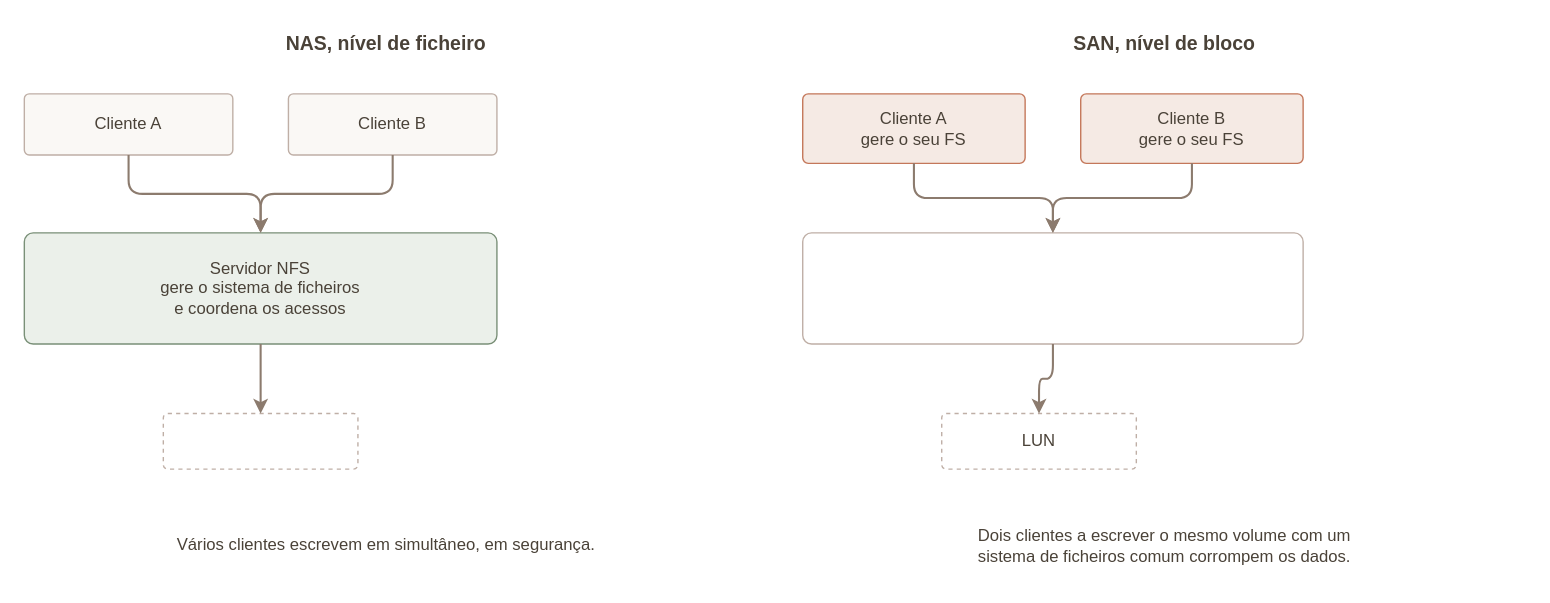
This 1550x603 diagram has some shape labels left out. The centre of each missing label's shape, as x and y in pixels:
disco: point (260, 440)
Target iSCSI entrega blocos em bruto sem saber o que contêm: point (1052, 287)
